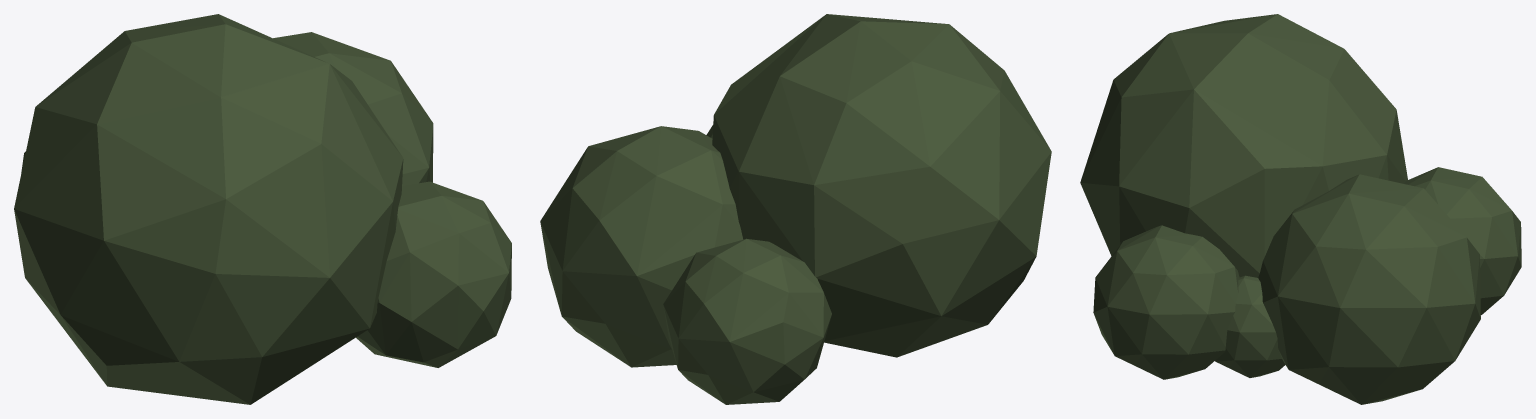
The model's file is bush1.fbx.
3 renders of one model, left to right at view 1: azimuth 30°, elevation 25°; view 2: azimuth 150°, elevation 25°; view 3: azimuth 270°, elevation 25°, orthographic. The views are drawn at different scales.
Visible parts, largest first — view 1: Sphere.041, Sphere.045, Sphere.042; view 2: Sphere.041, Sphere.042, Sphere.043; view 3: Sphere.041, Sphere.042, Sphere.045, Sphere.043, Sphere.044.
Part boxes in pixels (left/top/right/bottom): Sphere.041: left=14, top=14, right=403, bottom=404; Sphere.045: left=356, top=181, right=511, bottom=367; Sphere.042: left=273, top=32, right=433, bottom=185; Sphere.041: left=712, top=14, right=1051, bottom=357; Sphere.042: left=540, top=126, right=743, bottom=367; Sphere.043: left=663, top=238, right=831, bottom=404; Sphere.041: left=1080, top=14, right=1407, bottom=277; Sphere.042: left=1258, top=174, right=1480, bottom=404; Sphere.045: left=1093, top=225, right=1239, bottom=379; Sphere.043: left=1404, top=167, right=1521, bottom=314; Sphere.044: left=1215, top=275, right=1285, bottom=377.
Size of the model in its own units: 39.05 by 30.25 by 40.45.
